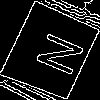N: (25, 26, 86, 78)
